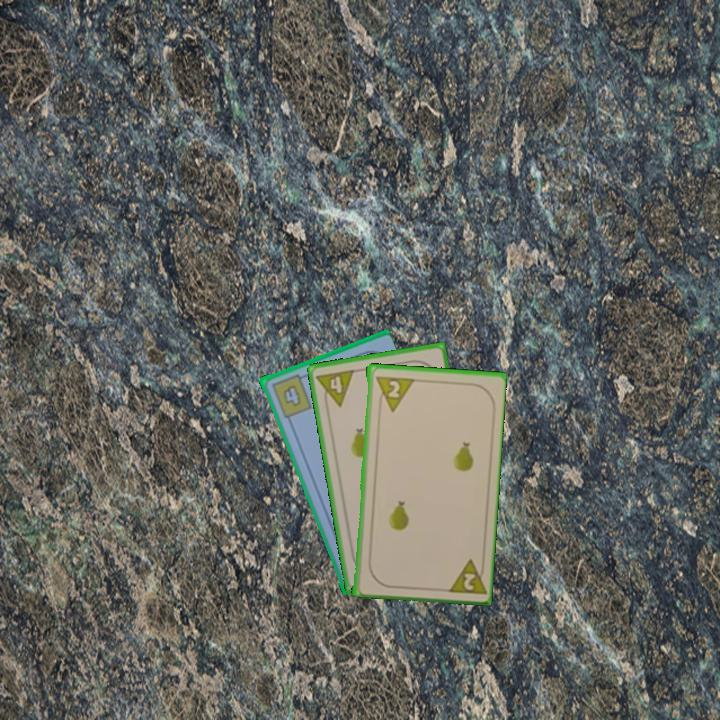2p: (442, 555, 487, 597), (372, 372, 415, 414)
4b: (267, 370, 314, 420)
4p: (313, 366, 357, 411)
